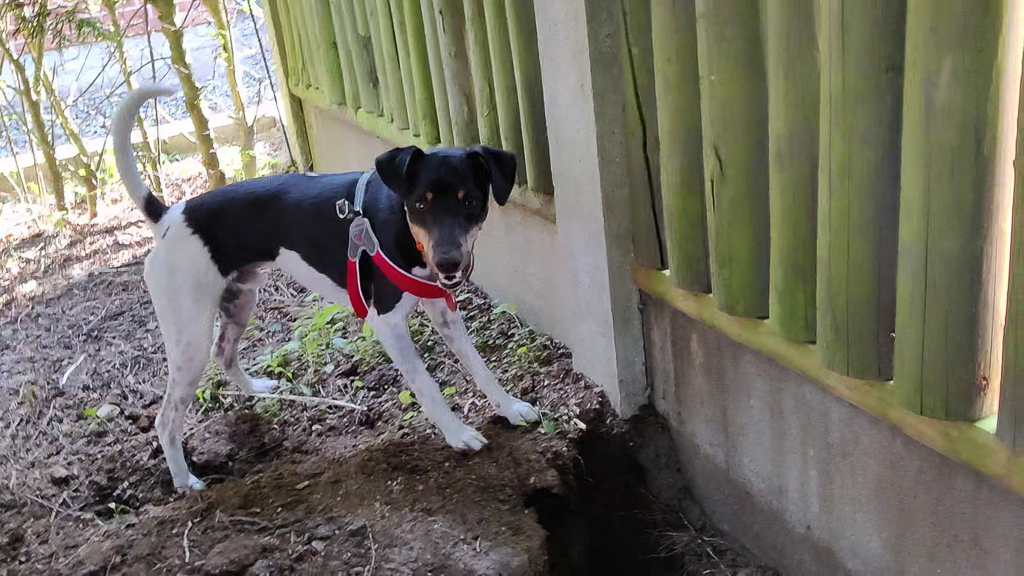Dog: (101, 71, 570, 503)
